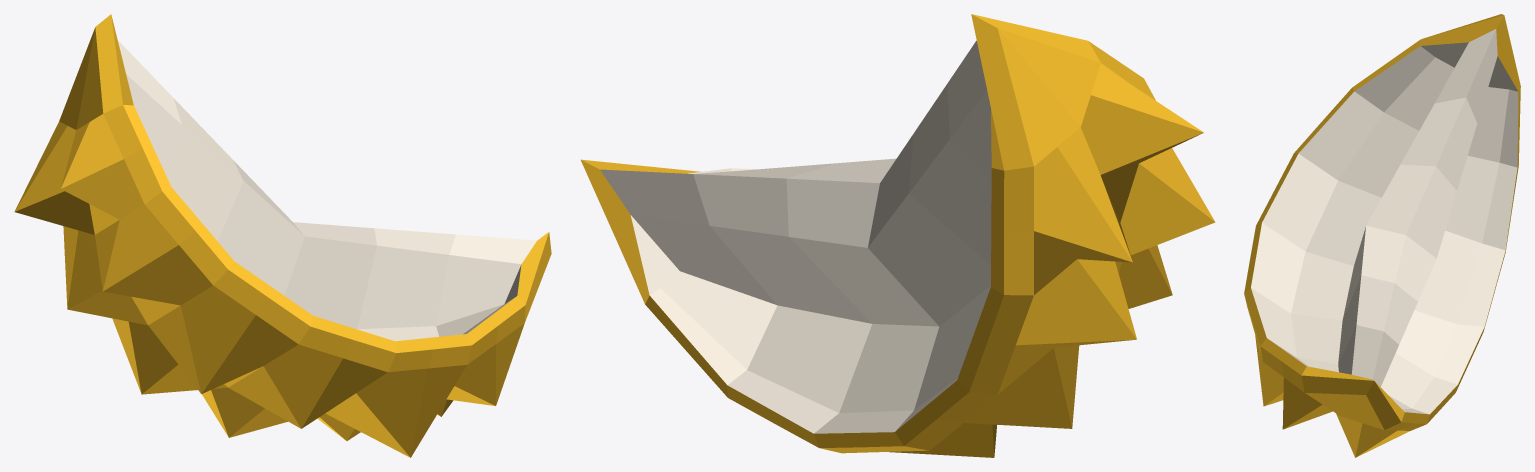
Rendered from Trash_Durian_01.fbx.
3 views of the same model, side by side, from view 1: azimuth 30°, elevation 25°; view 2: azimuth 150°, elevation 25°; view 3: azimuth 270°, elevation 25° (orthographic). The views are drawn at different scales.
Parts seen in each view (by area): view 1: Duren_00; view 2: Duren_00; view 3: Duren_00.
Part boxes in pixels (x1=…): Duren_00: x1=14, y1=14, x2=551, y2=457; Duren_00: x1=581, y1=14, x2=1215, y2=457; Duren_00: x1=1244, y1=14, x2=1520, y2=457.
Bounding box in the file's own units: 19.59 × 16.11 × 11.6.
1 material, 1 textured.
